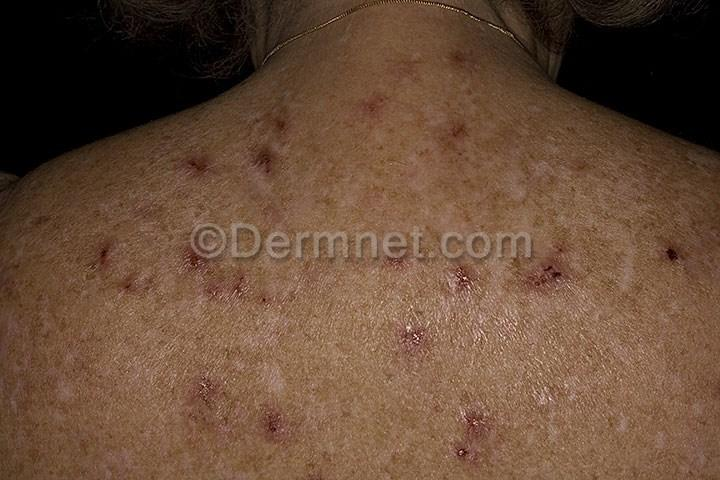Eczema: (340, 273, 517, 473), (161, 262, 345, 427), (349, 63, 515, 238), (176, 87, 352, 233), (37, 174, 171, 336), (516, 88, 641, 260), (526, 256, 643, 368), (632, 202, 720, 316)
